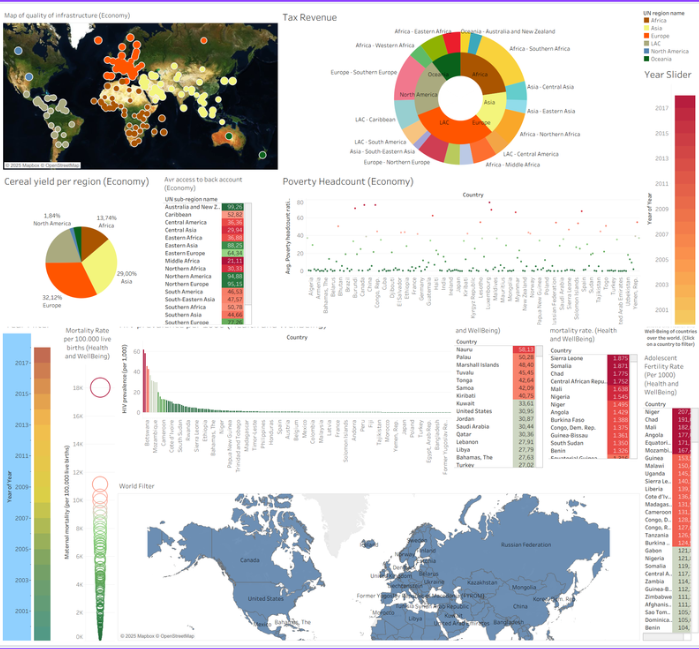

The dashboard page shown, as its layout file describes it:
{"tool":"tableau","page":{"name":"Economy Dashboard","canvas":[1000,1000],"units":"permille","ordinal":3},"visuals":[{"type":"worksheet","title":"Map of quality of infrastructure (Economy)","mark":"Automatic","box":[4.8,8.8,388.7,491.2]},{"type":"worksheet","title":"SunBurst Tax Revenue %(Economy)","mark":"Pie","box":[393.5,8.8,505.1,491.2]},{"type":"legend","title":"SunBurst Tax Revenue %(Economy)","param":"[federated.03zefyc10kt0lv11gle1a12tdws2].[none:UN region name:nk]","box":[898.6,8.8,96.6,171.2]},{"type":"worksheet","title":"Year Slider","mark":"Bar","rows":["year"],"box":[898.6,180,96.6,811.2]},{"type":"worksheet","title":"Cereal yield per region (Economy)","mark":"Pie","box":[4.8,500,223.4,491.2]},{"type":"worksheet","title":"Avr access to back account (Economy)","mark":"Square","rows":["UN sub-region name"],"box":[228.2,500,165.2,491.2]},{"type":"worksheet","title":"Poverty Headcount (Economy)","mark":"Circle","rows":["Poverty headcount ratio at $1.90/day (%)"],"cols":["country"],"box":[393.5,500,505.1,491.2]}]}

Visuals, with their boxes on the dashboard's canvas, which has no fixed pixel size, in thousandths of its width and height (x1, y1, x2, y2). These are canvas units, not pixel positions in the 699x649 screenshot, which may show the page scaled, cropped or inside an application window:
"Map of quality of infrastructure (Economy)" worksheet: region(5, 9, 394, 500)
"SunBurst Tax Revenue %(Economy)" worksheet (Pie marks): region(394, 9, 899, 500)
"SunBurst Tax Revenue %(Economy)" legend: region(899, 9, 995, 180)
"Year Slider" worksheet (Bar marks): region(899, 180, 995, 991)
"Cereal yield per region (Economy)" worksheet (Pie marks): region(5, 500, 228, 991)
"Avr access to back account (Economy)" worksheet (Square marks): region(228, 500, 393, 991)
"Poverty Headcount (Economy)" worksheet (Circle marks): region(394, 500, 899, 991)
